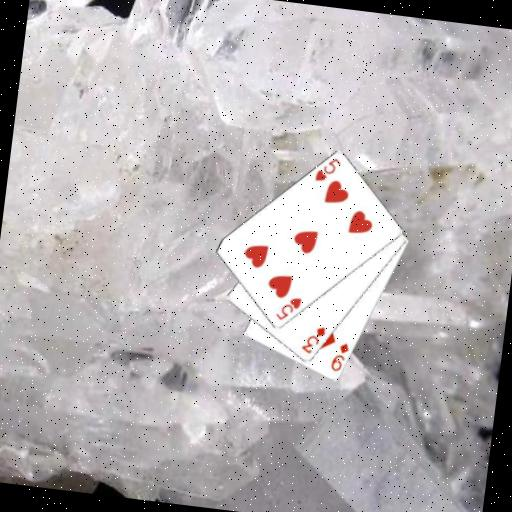3D: (298, 321, 328, 357)
5H: (272, 292, 304, 324), (312, 153, 343, 185)
9D: (328, 339, 352, 375)
